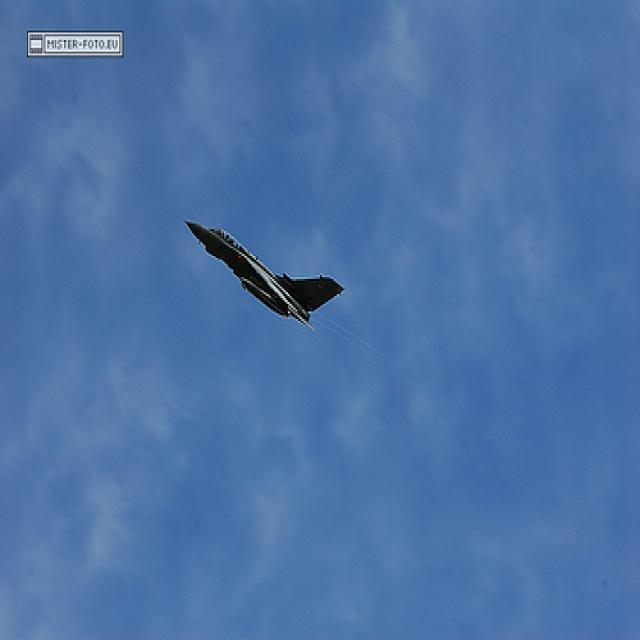aeroplane: (184, 219, 347, 333)
